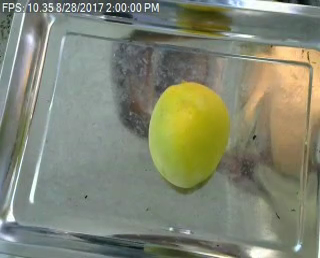Mango: (147, 75, 235, 197)
